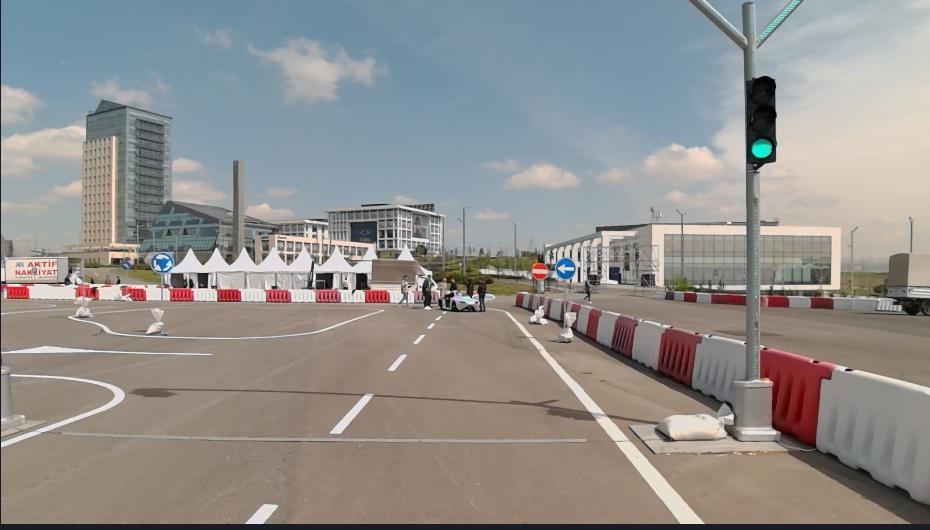nesne: (0, 297, 709, 528), (240, 302, 705, 527), (0, 301, 447, 526), (489, 304, 704, 524), (766, 348, 927, 503), (575, 305, 748, 404), (811, 361, 929, 500), (628, 377, 806, 455), (66, 306, 384, 339), (0, 371, 125, 450), (684, 0, 800, 74), (764, 346, 834, 448), (165, 286, 401, 304), (689, 333, 744, 407), (745, 161, 762, 380), (746, 74, 777, 166), (887, 251, 929, 315), (658, 325, 700, 386), (763, 294, 899, 311), (2, 344, 211, 355), (0, 256, 82, 282), (371, 259, 438, 290), (628, 317, 665, 373), (329, 389, 374, 432), (610, 312, 638, 357), (664, 290, 744, 305), (243, 498, 279, 526), (438, 289, 481, 311), (594, 309, 616, 349), (27, 284, 74, 300), (832, 297, 900, 308), (584, 305, 602, 341), (558, 309, 577, 340), (1, 302, 54, 313), (76, 237, 85, 300), (573, 303, 590, 336), (553, 257, 577, 280), (149, 253, 173, 272), (581, 274, 595, 303), (529, 304, 550, 323), (421, 273, 432, 309), (477, 277, 488, 313), (386, 352, 409, 369), (2, 285, 28, 299), (239, 288, 265, 302), (338, 289, 364, 303), (397, 275, 409, 305), (529, 262, 550, 279), (711, 293, 743, 304), (74, 298, 92, 317), (263, 288, 289, 301), (364, 289, 388, 303), (314, 290, 339, 303), (98, 286, 121, 300), (289, 288, 314, 300), (168, 287, 192, 299), (787, 295, 811, 307), (193, 288, 215, 301), (216, 288, 238, 300), (464, 275, 476, 297), (550, 298, 561, 321), (811, 297, 833, 308), (438, 273, 449, 294), (767, 295, 788, 306), (159, 273, 165, 310), (143, 288, 159, 301), (130, 288, 144, 301), (389, 289, 400, 304), (85, 288, 98, 300), (537, 279, 542, 310), (448, 275, 458, 290), (696, 294, 711, 304), (341, 274, 350, 289), (546, 298, 552, 320), (528, 293, 535, 311), (121, 257, 132, 268), (412, 291, 423, 302), (516, 292, 524, 307), (563, 279, 566, 319), (672, 290, 684, 300), (522, 291, 529, 308), (684, 293, 695, 302), (164, 286, 171, 299), (121, 292, 130, 302), (569, 302, 580, 309), (125, 269, 128, 293), (665, 290, 673, 299), (410, 290, 414, 304)
